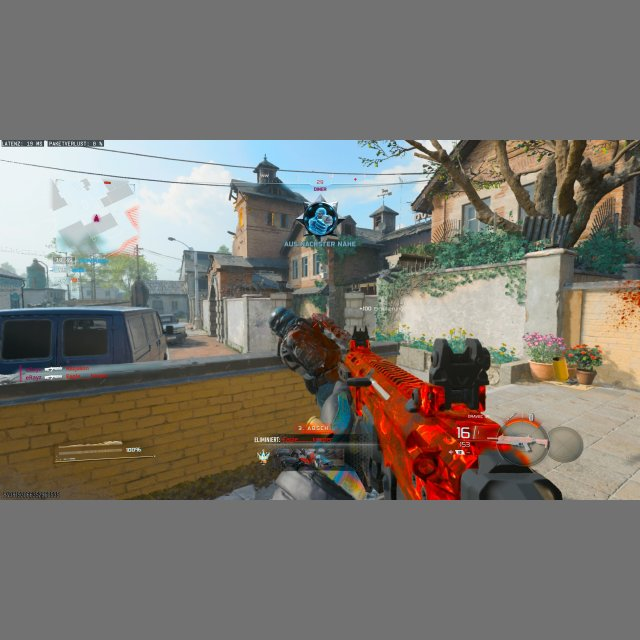head: (268, 306, 296, 338)
